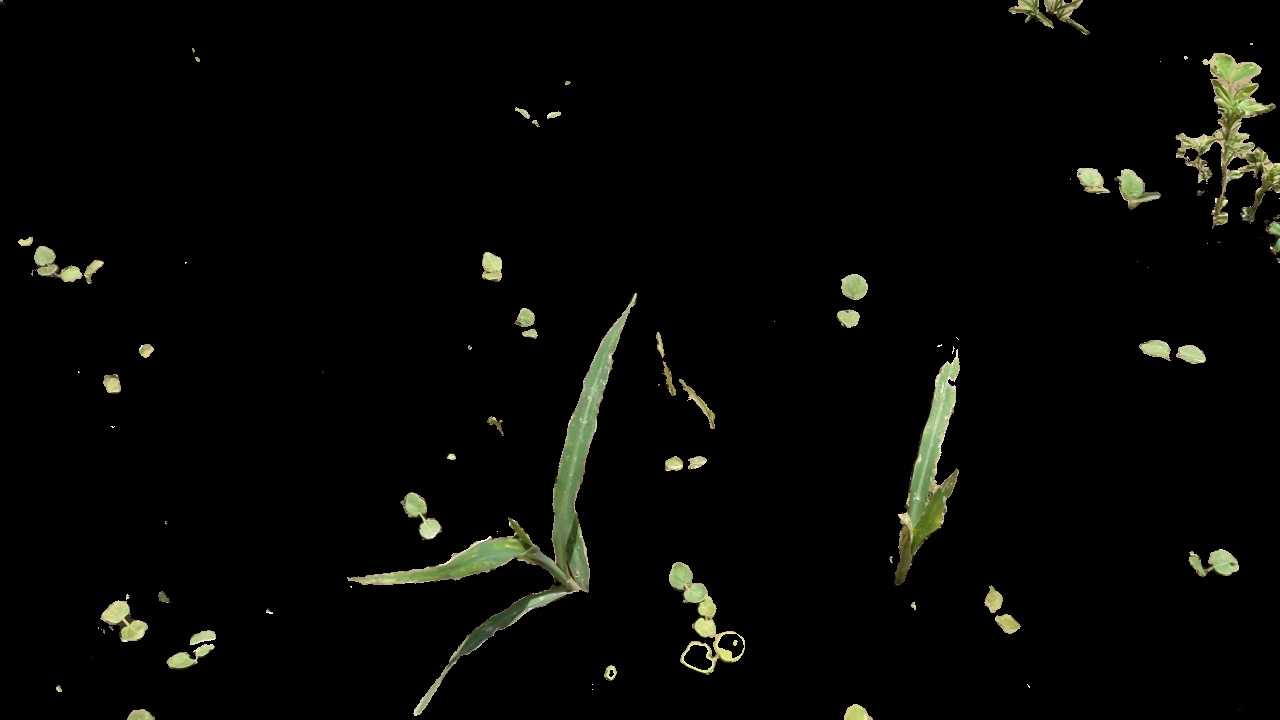crop: (353, 518, 598, 720), (537, 291, 640, 604), (888, 320, 996, 587)
weed: (1178, 40, 1280, 250), (651, 561, 756, 674), (1076, 157, 1159, 217), (22, 233, 106, 291), (1000, 1, 1104, 41), (1139, 322, 1209, 372), (166, 624, 229, 673), (825, 271, 874, 331), (93, 602, 154, 647), (400, 487, 446, 543), (1186, 538, 1244, 581), (509, 98, 571, 135), (983, 578, 1022, 634), (510, 308, 550, 343), (95, 367, 130, 402), (130, 333, 161, 363), (661, 451, 706, 471), (479, 251, 505, 283)
